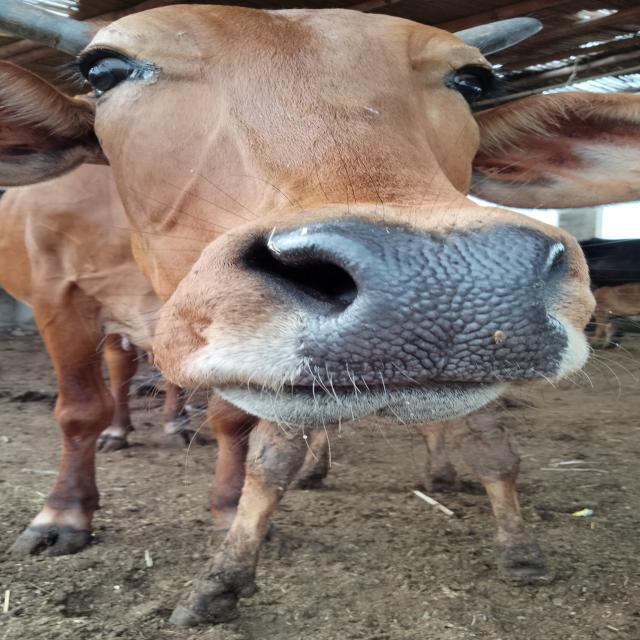muzzles: (229, 212, 598, 399)
